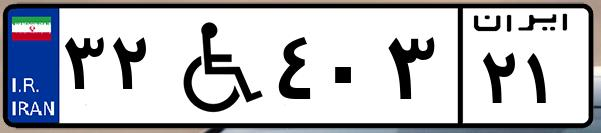0: (330, 28, 385, 110)
1: (525, 38, 570, 115)
2: (475, 38, 525, 113), (110, 28, 158, 98)
3: (385, 28, 445, 110), (57, 26, 110, 100)
4: (270, 28, 330, 110)
ژ (معلولین و جانبازان): (158, 12, 270, 120)
